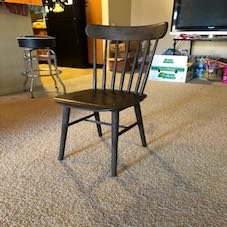chair: (42, 14, 178, 169)
